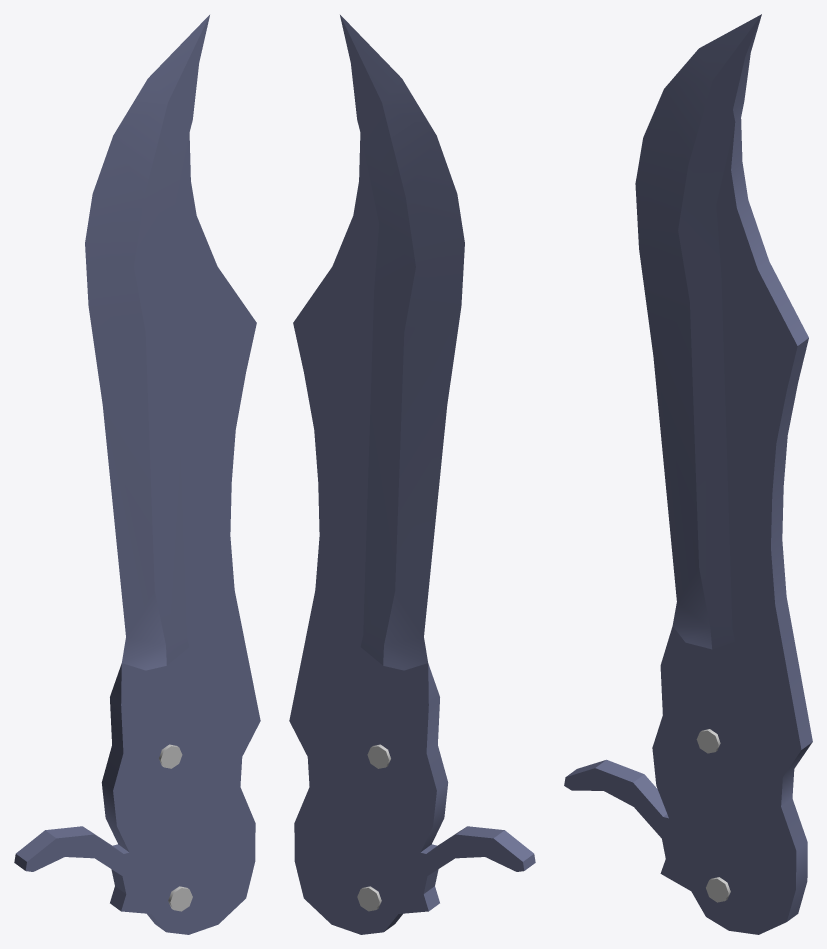
The model's file is Blade.obj.
3 renders of one model, left to right at view 1: azimuth 30°, elevation 25°; view 2: azimuth 150°, elevation 25°; view 3: azimuth 330°, elevation 25°, orthographic.
Parts seen in each view (by area): view 1: Meshpart1, Meshpart2; view 2: Meshpart1, Meshpart2; view 3: Meshpart1, Meshpart2.
Boxes of the visible parts, x1,y1,x2,y2 form: Meshpart1: (14, 15, 260, 934); Meshpart2: (159, 744, 192, 911); Meshpart1: (289, 15, 535, 934); Meshpart2: (357, 744, 390, 911); Meshpart1: (564, 14, 812, 934); Meshpart2: (696, 729, 730, 902).
Bounding box in the file's own units: 0.7851 × 2.9 × 0.0898.
